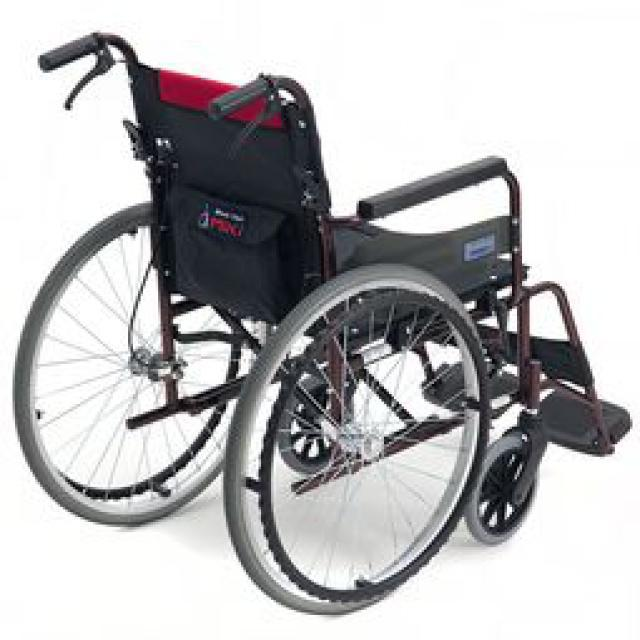wheelchair: (12, 22, 638, 605)
